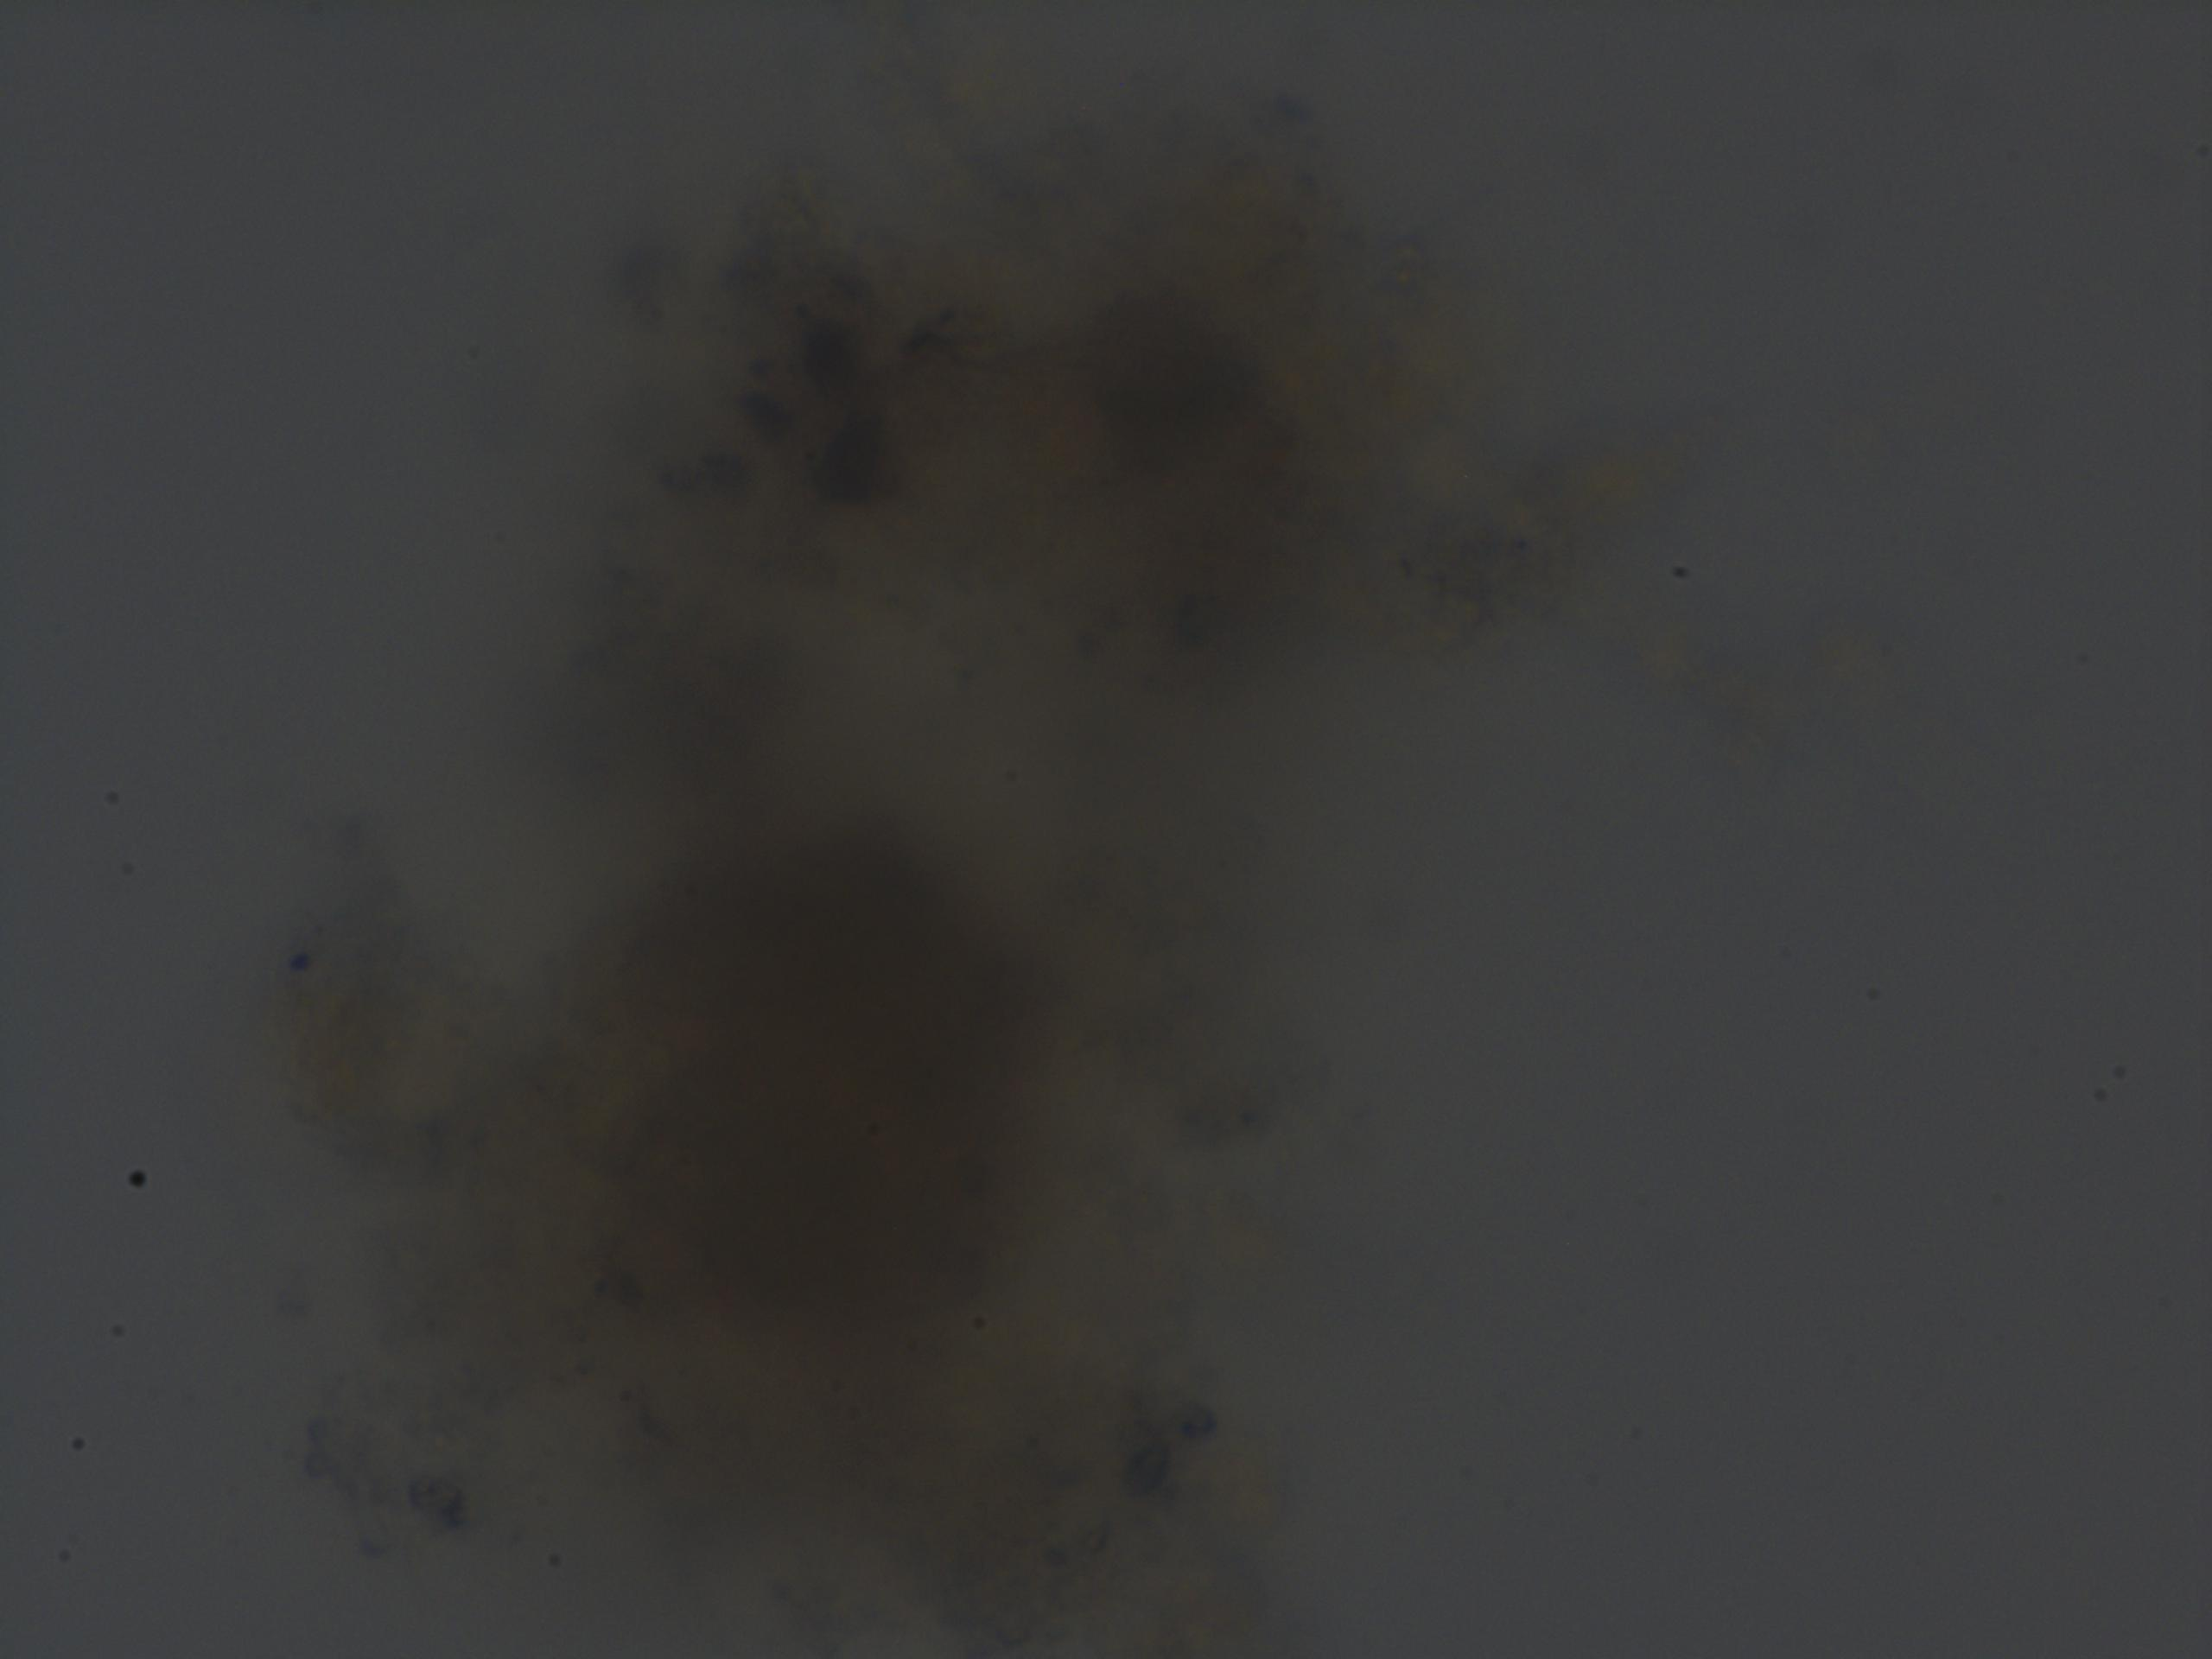open_floc: (282, 108, 1524, 1659)
